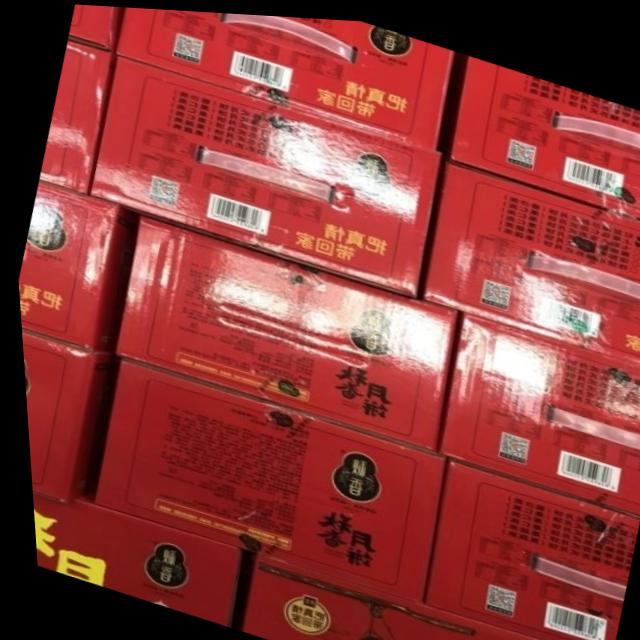box: (87, 358, 439, 598), (86, 54, 439, 293), (110, 214, 452, 447), (115, 6, 452, 144), (420, 156, 640, 359), (433, 308, 640, 508), (415, 453, 632, 640), (448, 49, 640, 211), (232, 549, 554, 640), (26, 493, 233, 624), (15, 179, 135, 349), (17, 332, 114, 501), (36, 39, 112, 193), (67, 3, 120, 50)
